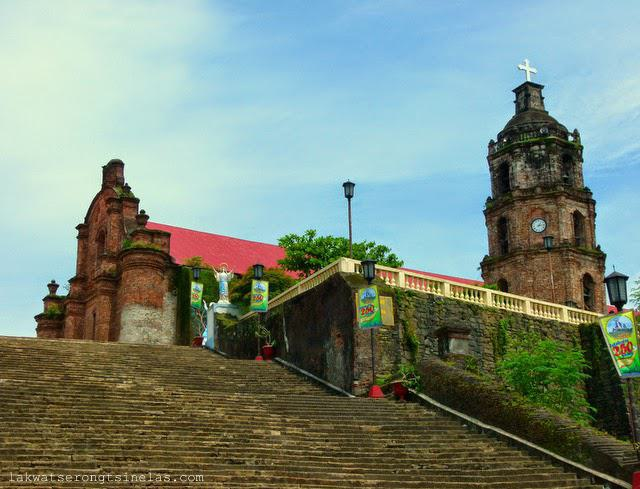santa_maria_church_santa_maria_ilocos_sur: (30, 154, 173, 344)
unfinished_paint: (120, 289, 185, 348)
water_damage_or_mold: (205, 284, 219, 304), (202, 270, 216, 282)
